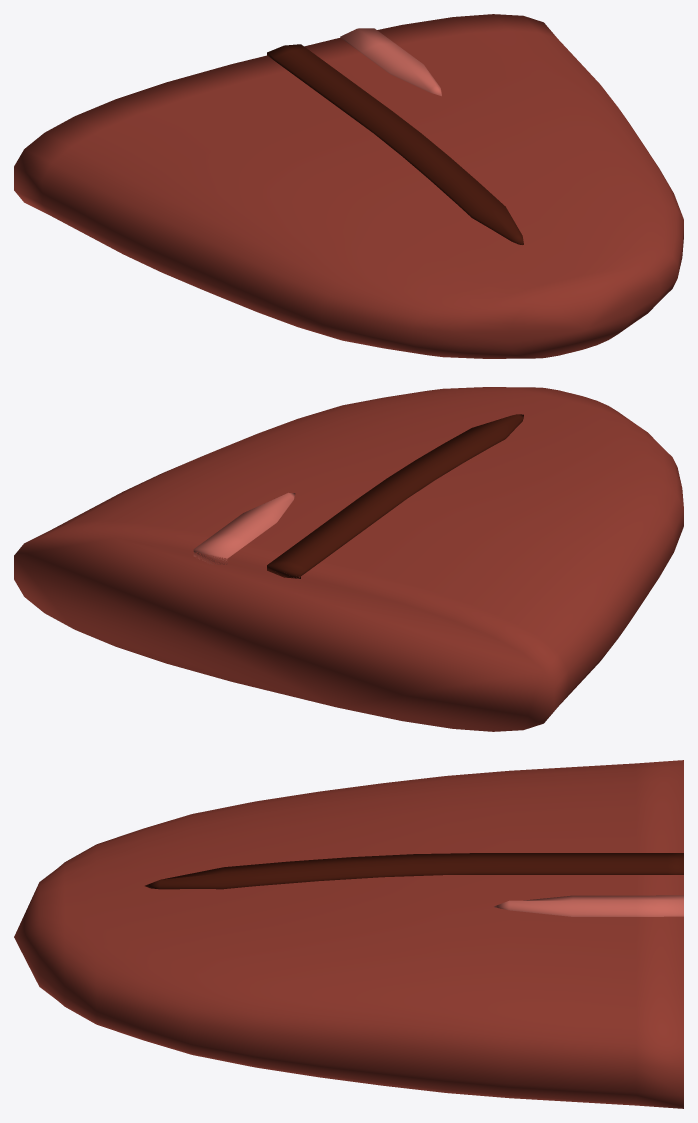
The model's file is newsh-caret-269.glb.
The picture shows the model from 3 angles, top to bottom: view 1: azimuth 30°, elevation 25°; view 2: azimuth 150°, elevation 25°; view 3: azimuth 270°, elevation 25°; orthographic projection. The views are drawn at different scales.
Parts seen in each view (by area): view 1: newsh-caret-269; view 2: newsh-caret-269; view 3: newsh-caret-269.
Boxes of the visible parts, bbox=[...] form: newsh-caret-269: bbox=[14, 14, 683, 358]; newsh-caret-269: bbox=[14, 387, 683, 731]; newsh-caret-269: bbox=[14, 760, 683, 1108].
Size of the model in its own units: 1.84 by 0.4171 by 1.76.
